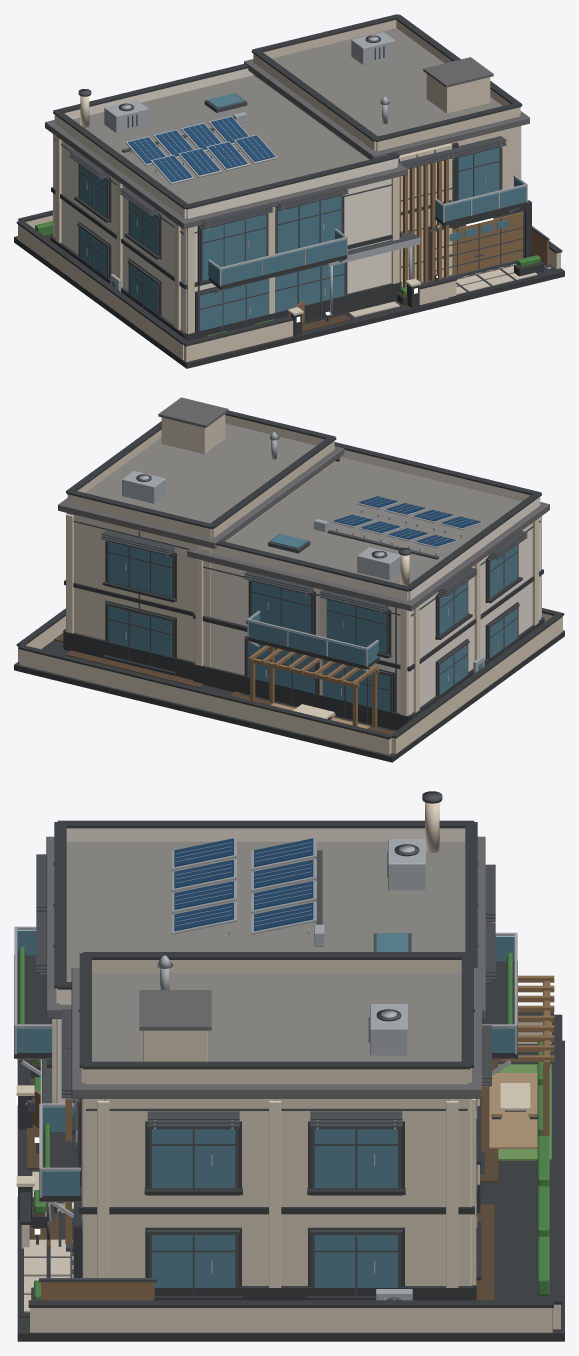
The model's file is villa.glb.
The picture shows the model from 3 angles, top to bottom: view 1: azimuth 30°, elevation 25°; view 2: azimuth 150°, elevation 25°; view 3: azimuth 270°, elevation 25°; orthographic projection. The views are drawn at different scales.
Visible parts, largest first — view 1: villa_west_roof_gravel, villa_west_volume, villa_east_roof_gravel, villa_plinth, villa_west_roof_slab, villa_east_roof_slab, villa_garage_door, villa_garden_wall.002, villa_window_glass.002, villa_window_glass.003, villa_window_glass, villa_west_base_front (+59 smaller); view 2: villa_west_roof_gravel, villa_west_volume, villa_east_roof_gravel, villa_east_volume, villa_garden_wall.004, villa_plinth, villa_west_roof_slab, villa_west_base_rear, villa_east_roof_slab, villa_garden_wall.002, villa_window_glass.012, villa_window_glass.009 (+47 smaller); view 3: villa_east_volume, villa_west_roof_gravel, villa_east_roof_gravel, villa_plinth, villa_garden_wall.003, villa_east_roof_slab, villa_east_roof_parapet.003, villa_west_roof_parapet.002, villa_east_roof_parapet.002, villa_window_glass.019, villa_window_glass.020, villa_window_glass.018 (+50 smaller).
Boxes of the visible parts, x1,y1,x2,y2 form: villa_west_roof_gravel: [73, 75, 368, 203]; villa_west_volume: [53, 134, 391, 333]; villa_east_roof_gravel: [272, 28, 502, 136]; villa_plinth: [14, 234, 564, 368]; villa_west_roof_slab: [45, 120, 407, 229]; villa_east_roof_slab: [244, 59, 529, 159]; villa_garage_door: [452, 212, 522, 275]; villa_garden_wall.002: [18, 224, 183, 360]; villa_window_glass.002: [203, 214, 266, 280]; villa_window_glass.003: [278, 196, 341, 253]; villa_window_glass: [200, 279, 269, 330]; villa_west_base_front: [185, 281, 401, 340]; villa_west_roof_gravel: [226, 457, 521, 584]; villa_west_volume: [203, 517, 541, 715]; villa_east_roof_gravel: [86, 423, 315, 523]; villa_east_volume: [66, 461, 335, 661]; villa_garden_wall.004: [19, 649, 391, 754]; villa_plinth: [14, 630, 564, 762]; villa_west_roof_slab: [187, 502, 549, 611]; villa_west_base_rear: [193, 663, 409, 730]; villa_east_roof_slab: [58, 446, 344, 548]; villa_garden_wall.002: [391, 618, 560, 753]; villa_window_glass.012: [108, 541, 171, 597]; villa_window_glass.009: [326, 599, 386, 653]; villa_east_volume: [81, 1098, 471, 1285]; villa_west_roof_gravel: [66, 841, 465, 981]; villa_east_roof_gravel: [92, 973, 461, 1061]; villa_plinth: [17, 1040, 564, 1341]; villa_garden_wall.003: [30, 1308, 552, 1332]; villa_east_roof_slab: [71, 968, 481, 1098]; villa_east_roof_parapet.003: [85, 1069, 468, 1084]; villa_west_roof_parapet.002: [66, 828, 465, 841]; villa_east_roof_parapet.002: [92, 960, 461, 973]; villa_window_glass.019: [152, 1129, 235, 1188]; villa_window_glass.020: [314, 1129, 397, 1188]; villa_window_glass.018: [314, 1235, 397, 1287].
Size of the model in its own units: 19.2 by 8.84 by 15.24.
